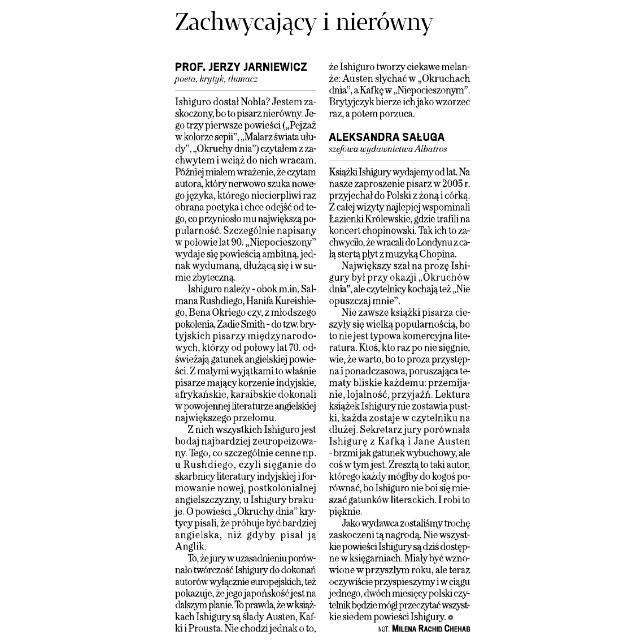author: (390, 622, 472, 636)
body: (168, 58, 320, 638), (324, 59, 474, 622)
title: (172, 8, 444, 40)
